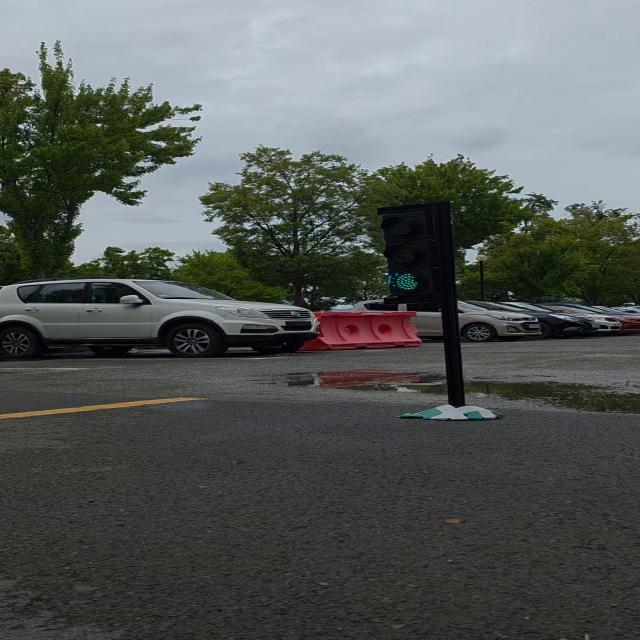green: (370, 200, 458, 302)
